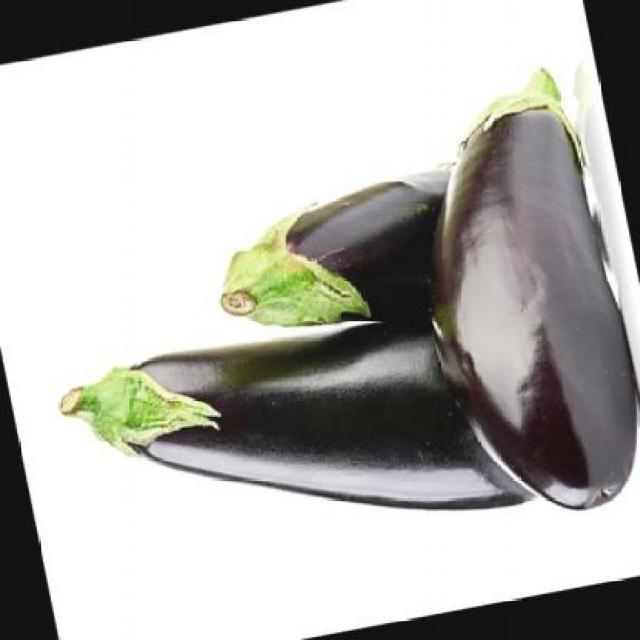eggplant: (48, 286, 541, 514), (422, 63, 640, 530), (213, 158, 507, 330)
